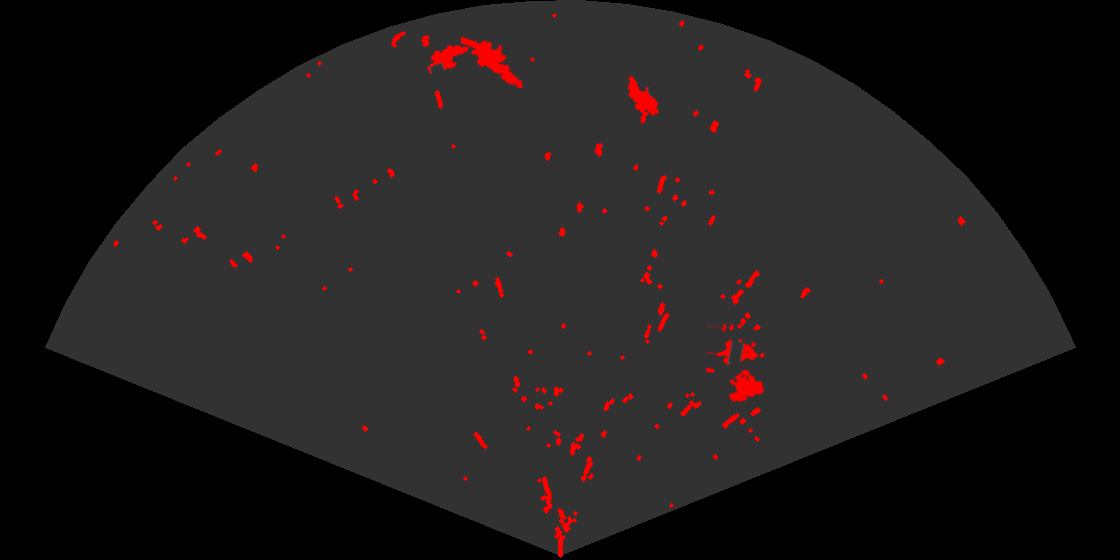AUV: (626, 75, 660, 118), (425, 43, 470, 75)
cage: (706, 324, 767, 404)
frogman: (461, 35, 525, 90)
